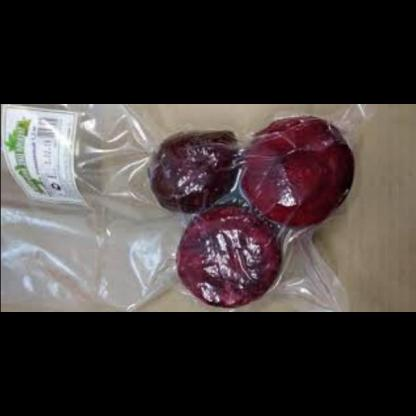beet: (238, 113, 360, 240), (166, 200, 286, 308), (144, 121, 245, 216)
